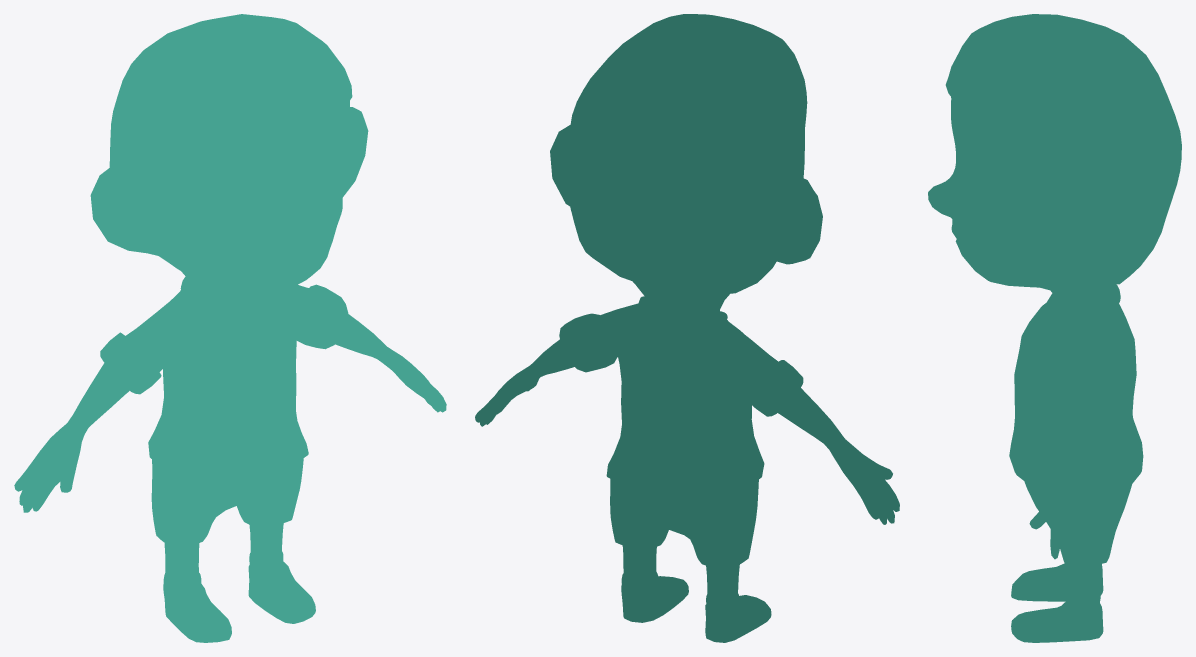
File: main_character.obj
The picture shows the model from 3 angles, left to right: view 1: azimuth 30°, elevation 25°; view 2: azimuth 150°, elevation 25°; view 3: azimuth 270°, elevation 25°; orthographic projection.
Parts seen in each view (by area): view 1: Plane; view 2: Plane; view 3: Plane.
Boxes of the visible parts, bbox=[...] form: Plane: bbox=[14, 14, 446, 642]; Plane: bbox=[475, 14, 899, 642]; Plane: bbox=[928, 14, 1181, 642].
Size of the model in its own units: 1.01 by 1.36 by 0.537.
